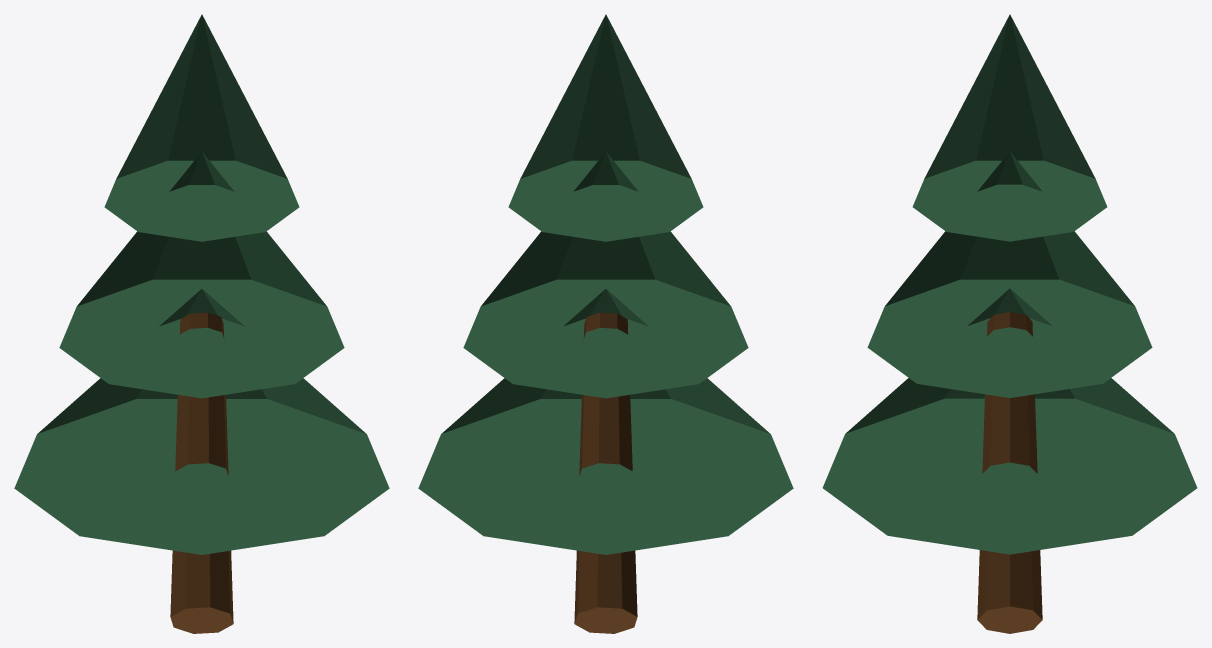
The model's file is tree_pine_01.glb.
3 views of the same model, side by side, from view 1: azimuth 30°, elevation 25°; view 2: azimuth 150°, elevation 25°; view 3: azimuth 270°, elevation 25° (orthographic).
Parts seen in each view (by area): view 1: tree_pine_01; view 2: tree_pine_01; view 3: tree_pine_01.
Boxes of the visible parts, x1,y1,x2,y2 form: tree_pine_01: [14, 14, 389, 633]; tree_pine_01: [418, 14, 793, 633]; tree_pine_01: [822, 14, 1197, 633].
Bounding box in the file's own units: 1.81 × 3.27 × 1.84.
